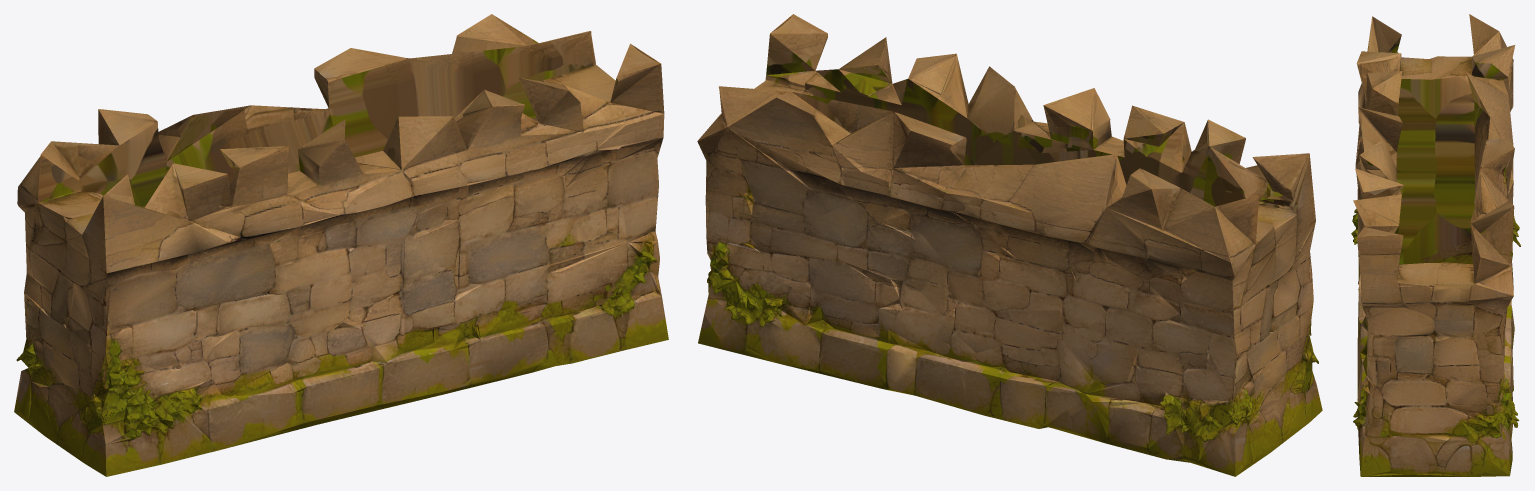
The model's file is ck_wall.glb.
3 views of the same model, side by side, from view 1: azimuth 30°, elevation 25°; view 2: azimuth 150°, elevation 25°; view 3: azimuth 270°, elevation 25° (orthographic). The views are drawn at different scales.
Parts seen in each view (by area): view 1: ck_wall; view 2: ck_wall; view 3: ck_wall.
Part boxes in pixels (<box>): ck_wall: <box>14,14,668,476</box>; ck_wall: <box>697,14,1322,476</box>; ck_wall: <box>1351,14,1520,476</box>.
Bounding box in the file's own units: 1.97 × 0.9355 × 0.6062.
1 material, 1 textured.
